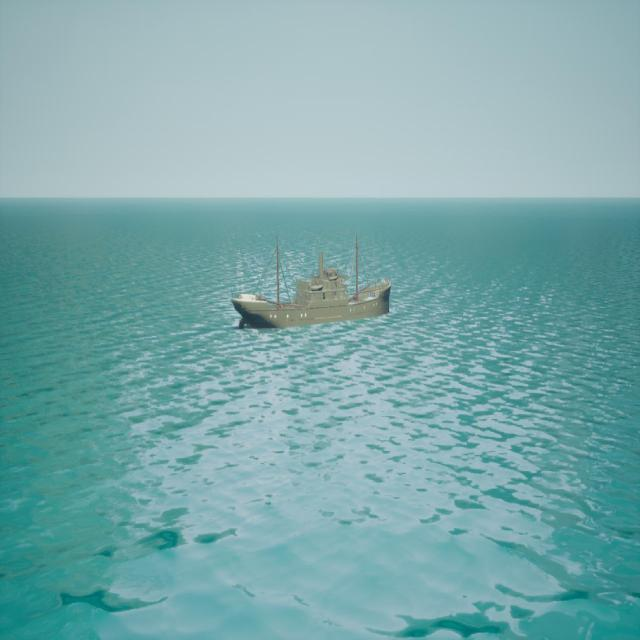fishing ship: (233, 233, 392, 333)
